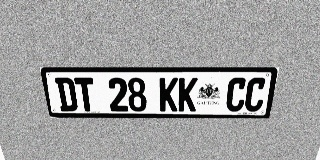2: (108, 78, 128, 111)
8: (127, 78, 147, 111)
C: (243, 78, 267, 111), (225, 78, 248, 111)
D: (54, 77, 78, 111)
K: (178, 78, 198, 111), (159, 78, 178, 111)
T: (74, 77, 97, 111)
